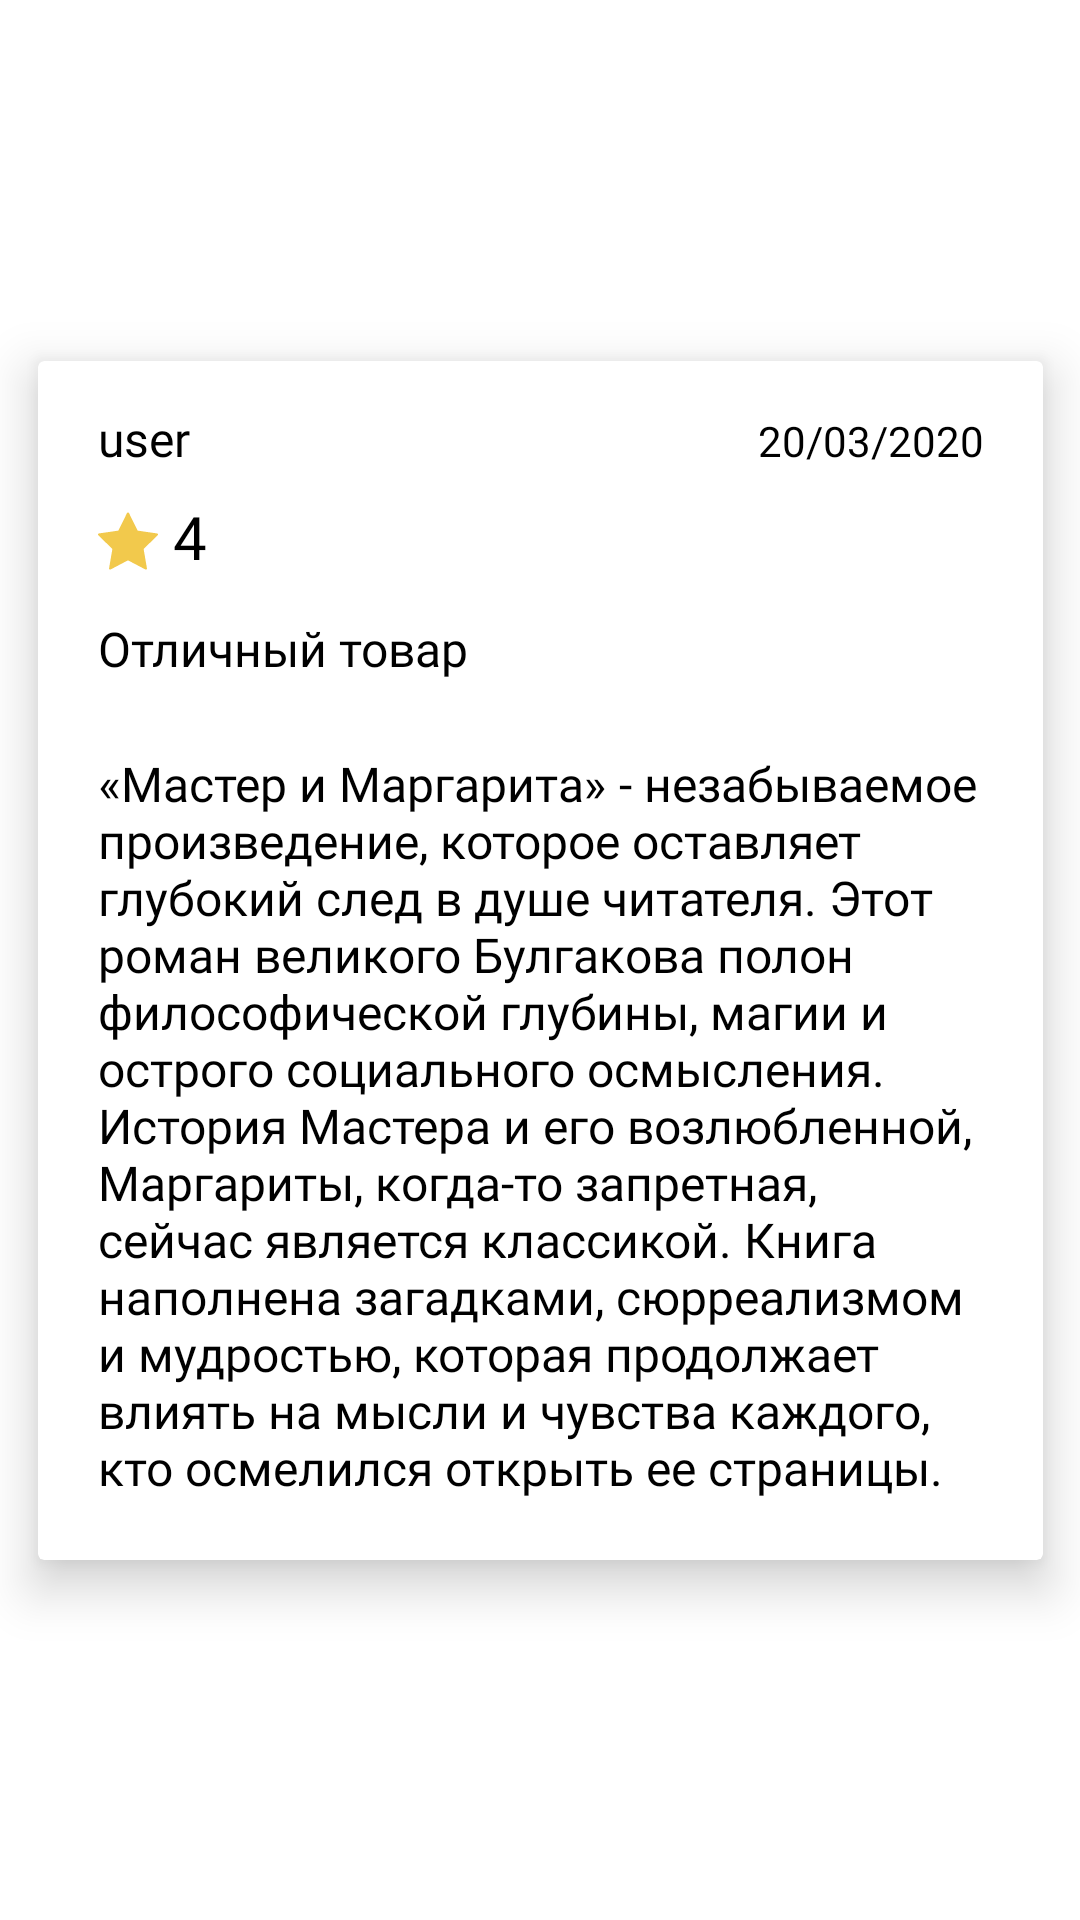

Icon click points for this 1080×1920 phone screenshot, format (x=x, y=y):
star: (x=128, y=541)
